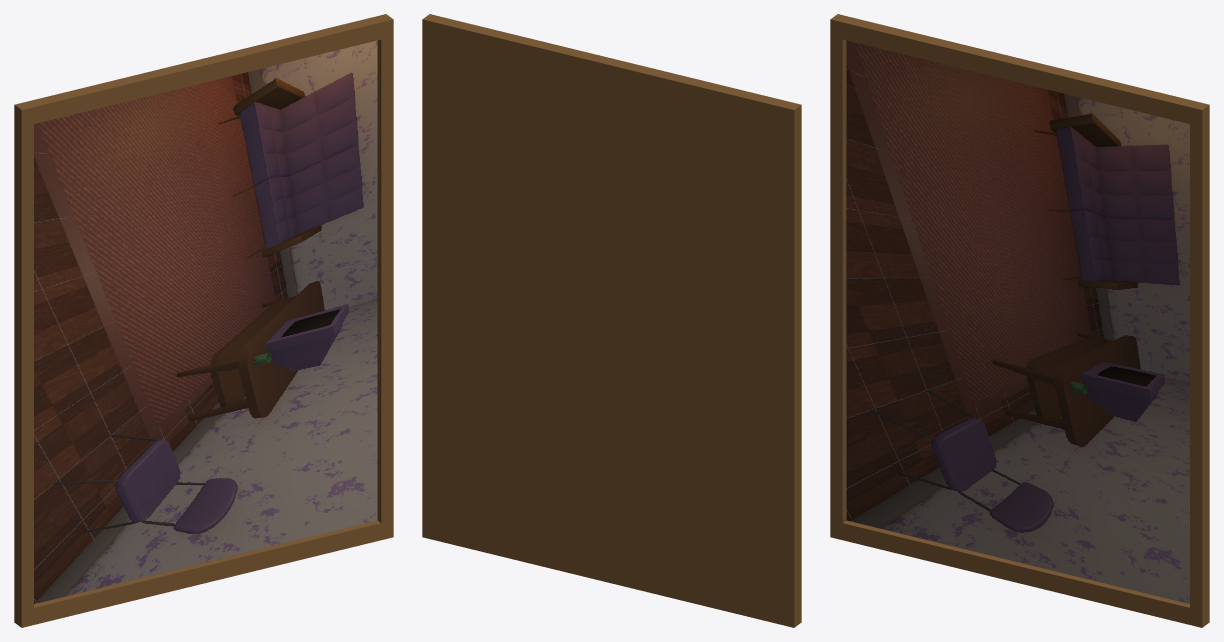
Rendered from Cuadro.fbx.
3 renders of one model, left to right at view 1: azimuth 30°, elevation 25°; view 2: azimuth 150°, elevation 25°; view 3: azimuth 330°, elevation 25°, orthographic.
Parts seen in each view (by area): view 1: foto, Cuadro; view 2: Cuadro; view 3: foto, Cuadro.
Part boxes in pixels (<box>): foto: <box>34,40,377,603</box>; Cuadro: <box>14,14,393,627</box>; Cuadro: <box>422,14,801,627</box>; foto: <box>846,40,1189,603</box>; Cuadro: <box>830,14,1209,627</box>.
Bounding box in the file's own units: 120 × 160 × 4.15.
